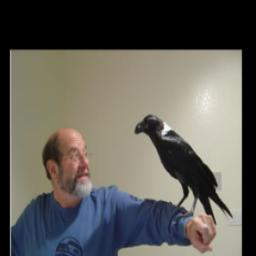Crow: (134, 110, 236, 225)
